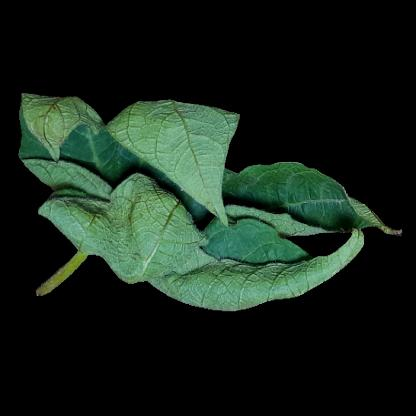curl_stage2: (94, 127, 199, 255), (203, 230, 297, 304), (252, 172, 366, 226), (29, 104, 90, 184), (179, 105, 226, 196), (134, 252, 206, 300)
